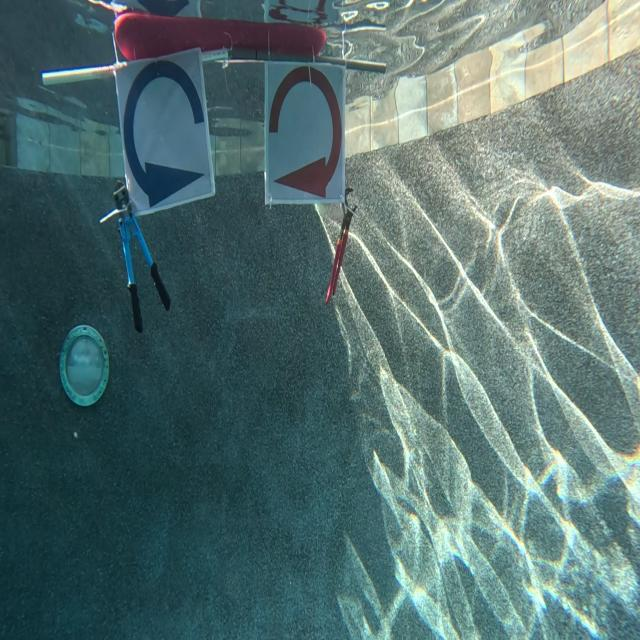blue_side: (109, 64, 218, 215)
red_side: (261, 59, 344, 202)
